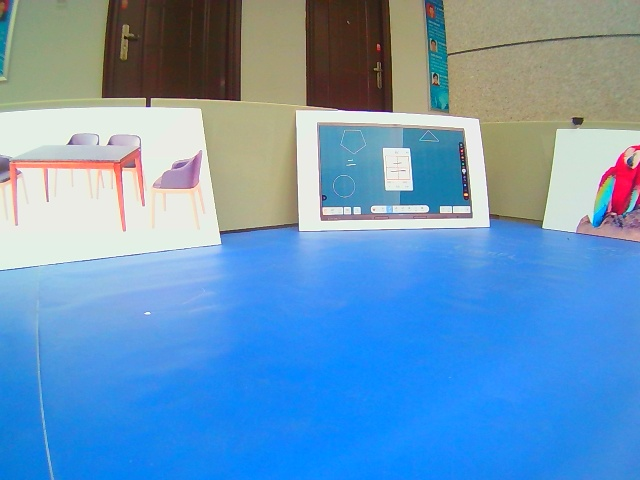table: (2, 107, 222, 277)
tv: (295, 109, 492, 235)
